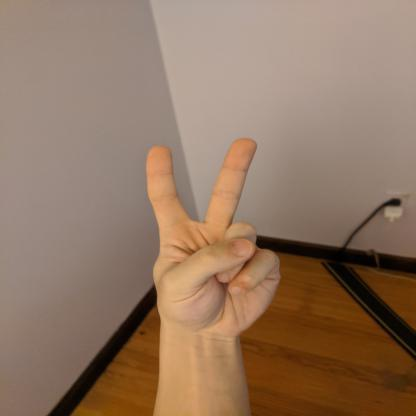V: (140, 135, 286, 338)
